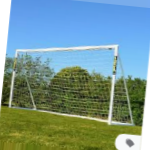goals: (8, 41, 137, 132)
